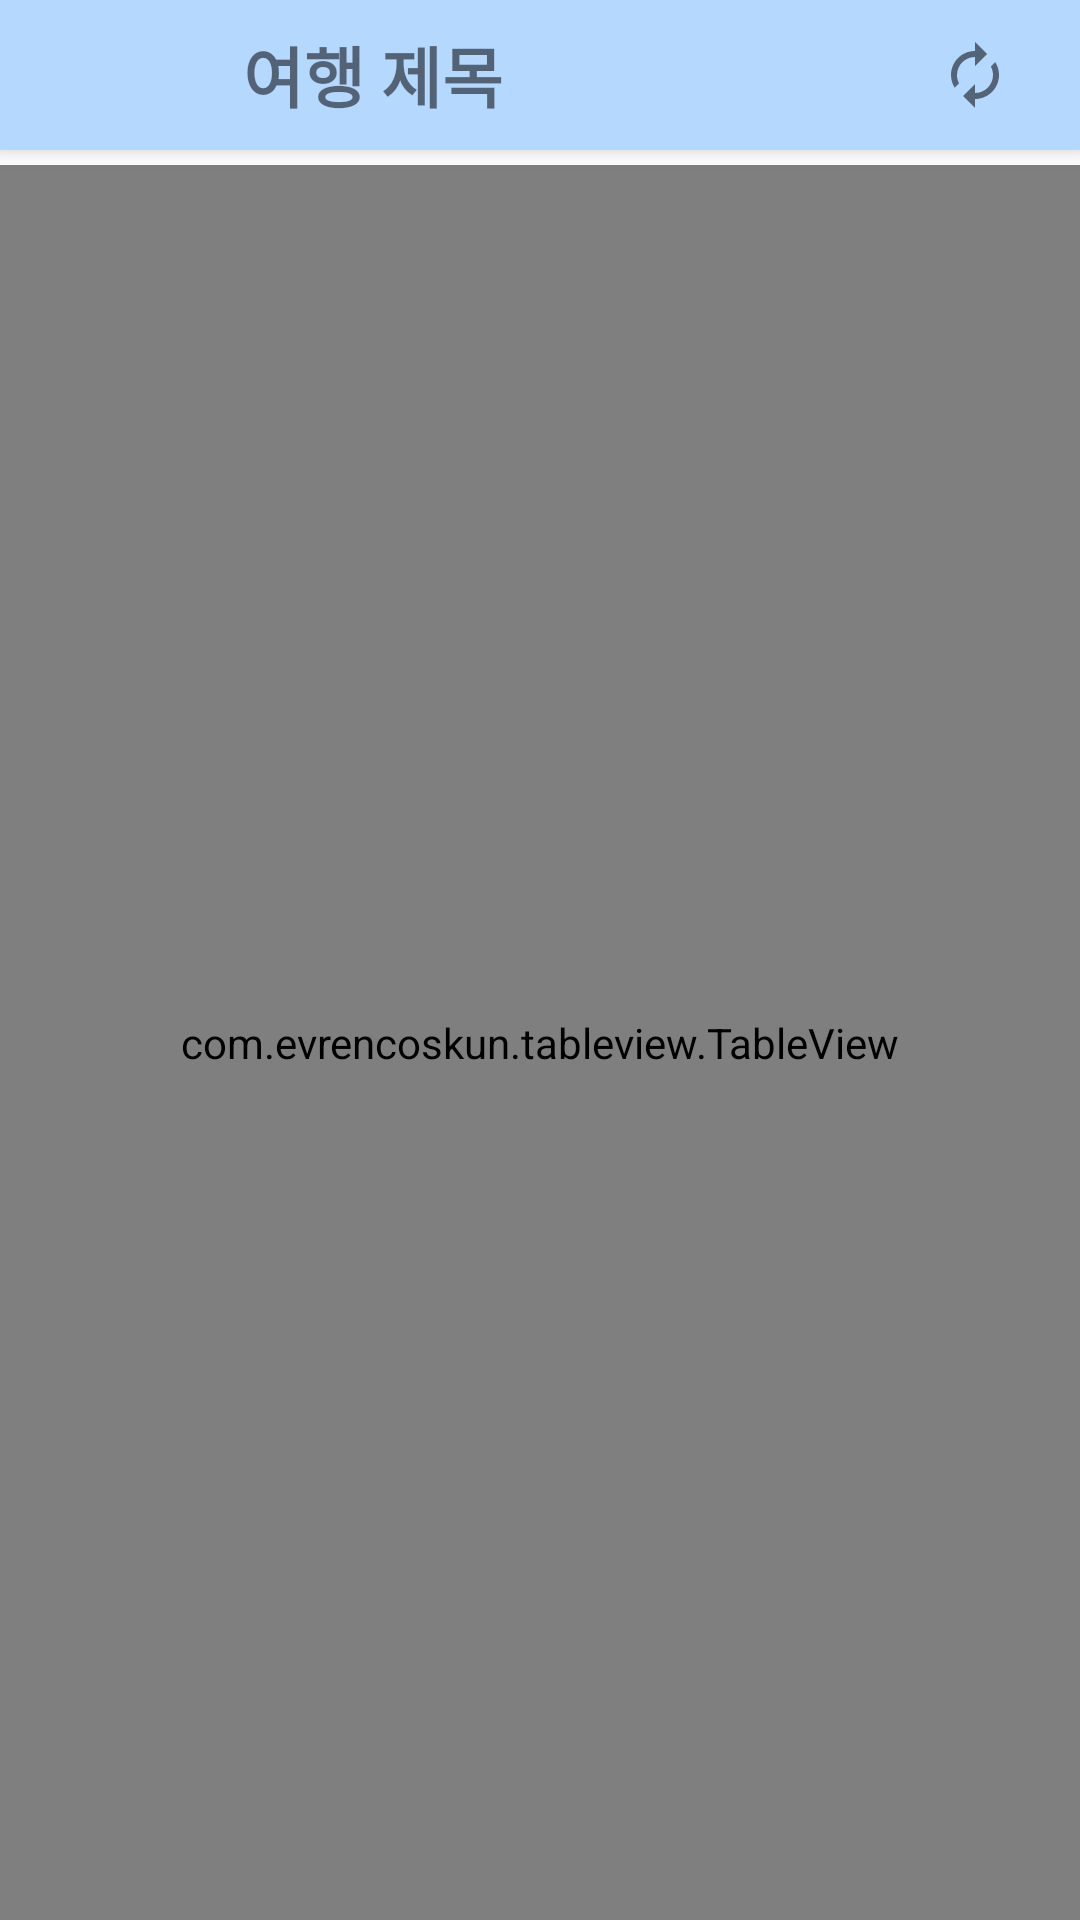

Named icons in this screenshot (1080×1920) and their bounding boxes, bbox=[x1, y1, x2, y2]:
refreseh: bbox=[951, 42, 999, 108]
